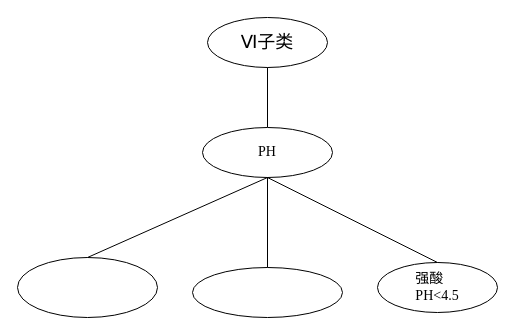
The diagram is 515 pixels wide and 335 high, and some of its shapes have lost their labels. Each missing label, with the centre of its shape:
中酸 4.5<=PH<5.6: the point at 267,292
弱酸 PH>5.6: the point at 87,287
